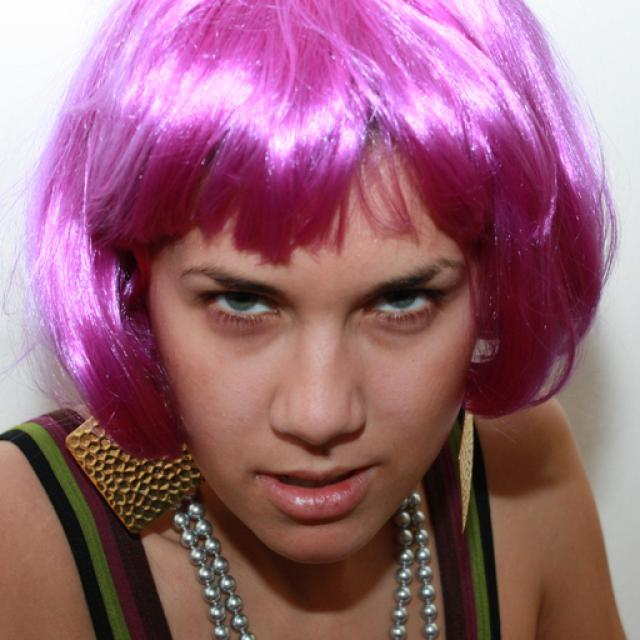anger: (149, 116, 475, 564)
